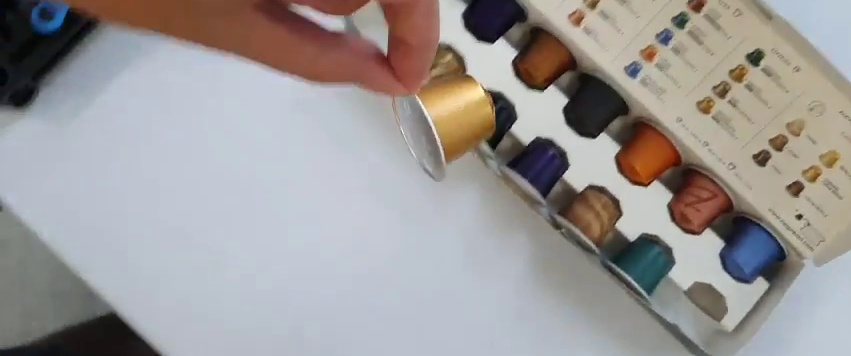capsule_8: (386, 68, 499, 184)
